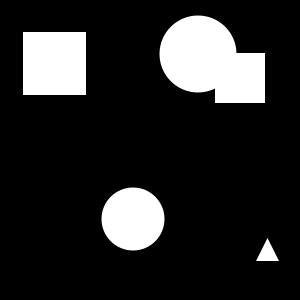circle: (23, 32, 86, 95), (215, 53, 265, 103)
rectangle: (160, 16, 236, 92), (102, 188, 164, 250)
triangle: (256, 238, 279, 261)
